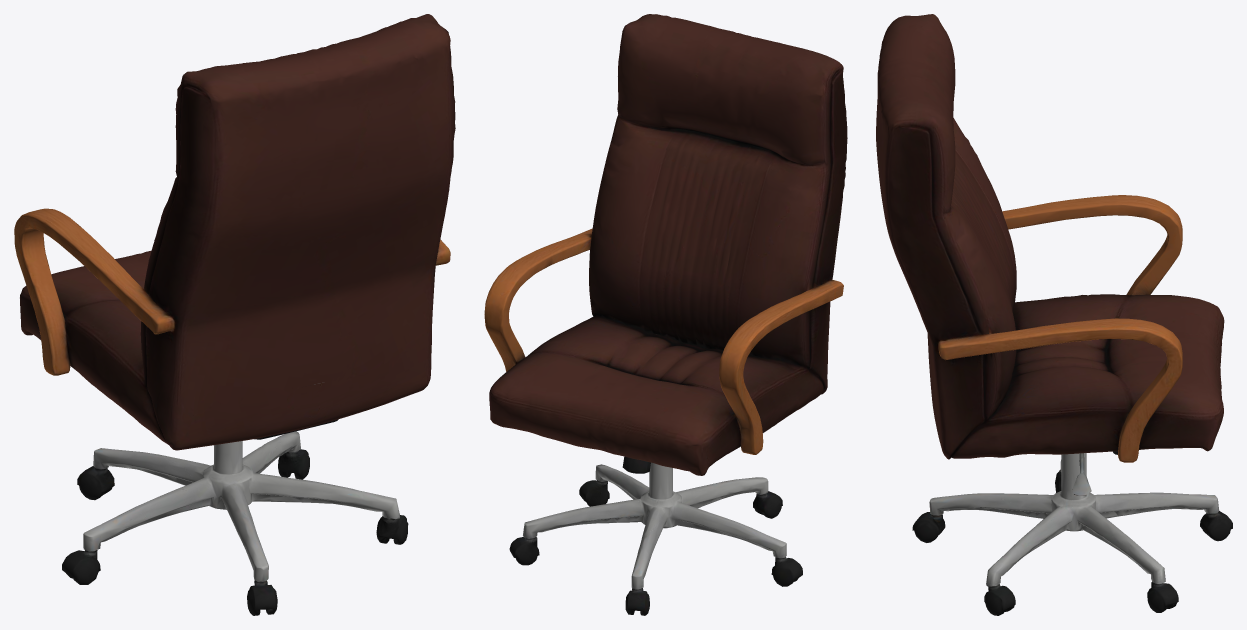
Rendered from director_chair.glb.
3 views of the same model, side by side, from view 1: azimuth 30°, elevation 25°; view 2: azimuth 150°, elevation 25°; view 3: azimuth 270°, elevation 25° (orthographic). The views are drawn at different scales.
Parts seen in each view (by area): view 1: tripo_node_57375270-4917-4a84-a7fa-4043aacb8912; view 2: tripo_node_57375270-4917-4a84-a7fa-4043aacb8912; view 3: tripo_node_57375270-4917-4a84-a7fa-4043aacb8912.
Part boxes in pixels (<box>): tripo_node_57375270-4917-4a84-a7fa-4043aacb8912: <box>14,14,455,615</box>; tripo_node_57375270-4917-4a84-a7fa-4043aacb8912: <box>484,14,847,615</box>; tripo_node_57375270-4917-4a84-a7fa-4043aacb8912: <box>876,14,1232,615</box>.
Bounding box in the file's own units: 0.5954 × 1 × 0.6491.
1 material, 1 textured.
